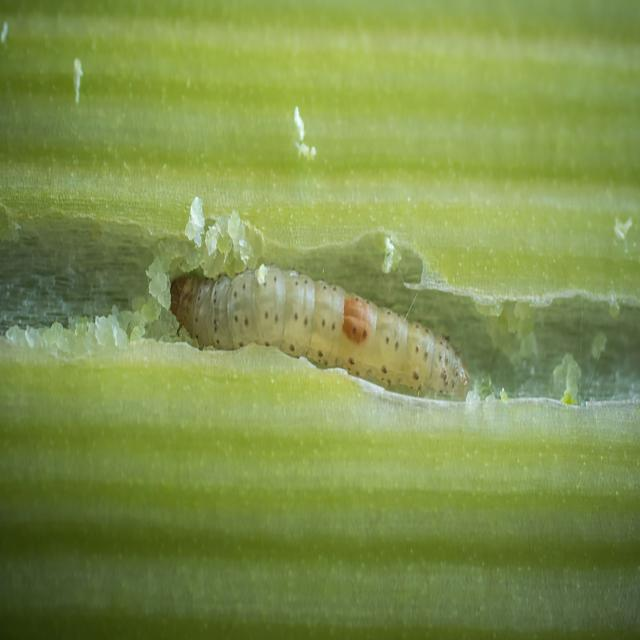cornborer-Larva-: (154, 250, 478, 422)
